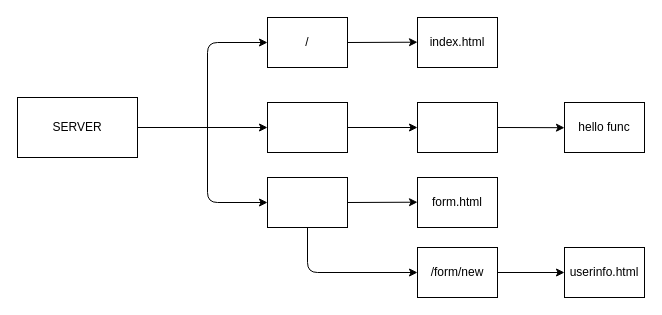
Some shapes in this 662 by 315 pixel diagram are drawn without their labels. The centre of each missing label's shape, as x and y in pixels:
/form: (307,202)
/private: (307,127)
/private/hello: (457,127)
